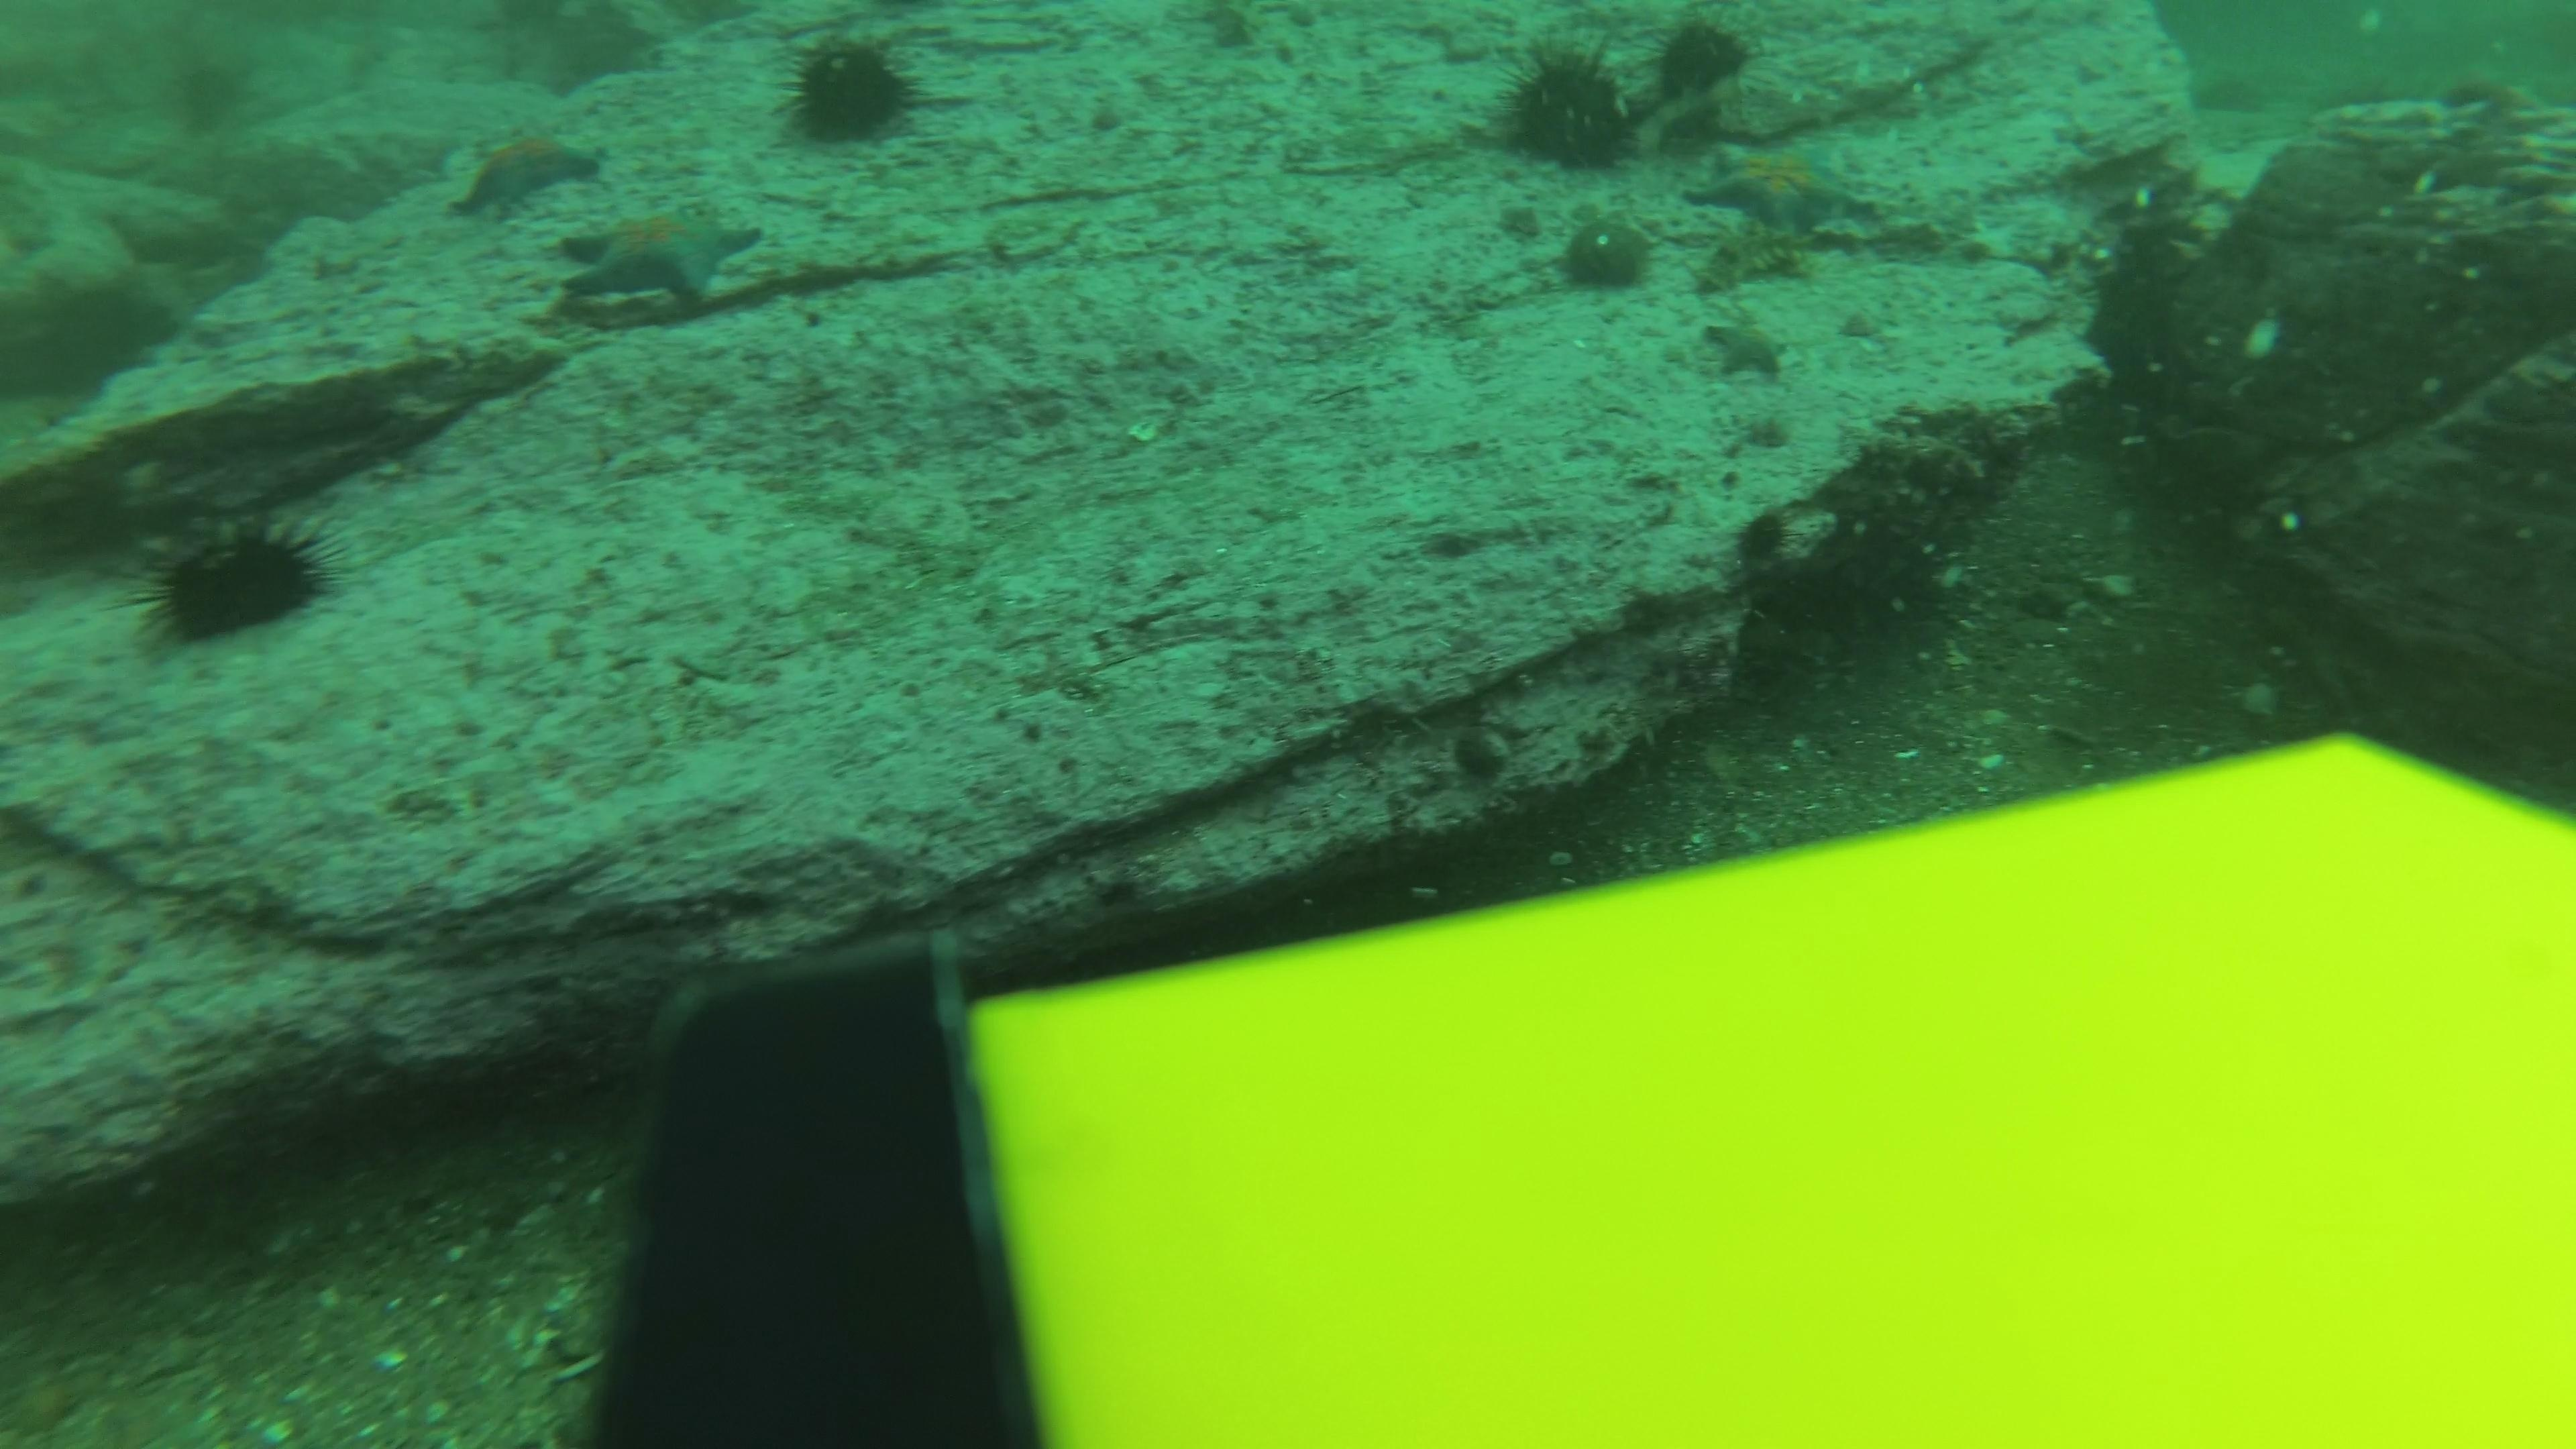echinus: (131, 506, 341, 655), (9, 264, 179, 409), (1484, 39, 1644, 177), (771, 28, 929, 154), (1642, 9, 1762, 111), (1546, 209, 1663, 303)
starfish: (552, 196, 768, 311), (1681, 134, 1877, 241), (444, 126, 609, 221), (1697, 315, 1794, 386)
